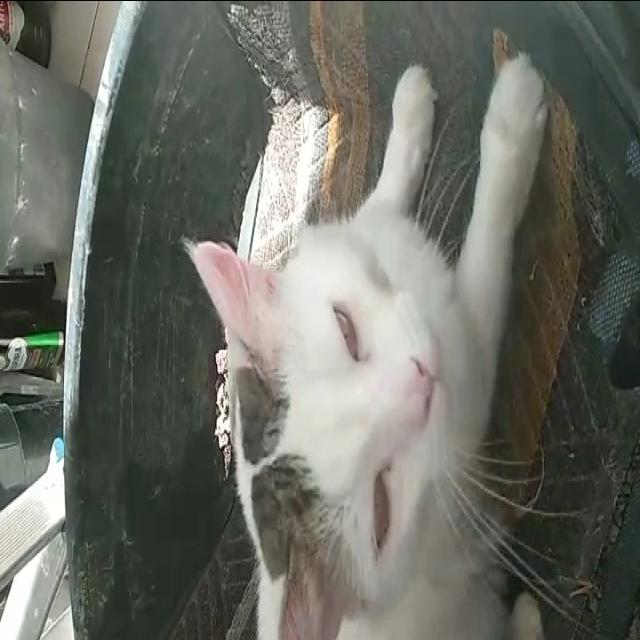Simba: (168, 66, 564, 626)
